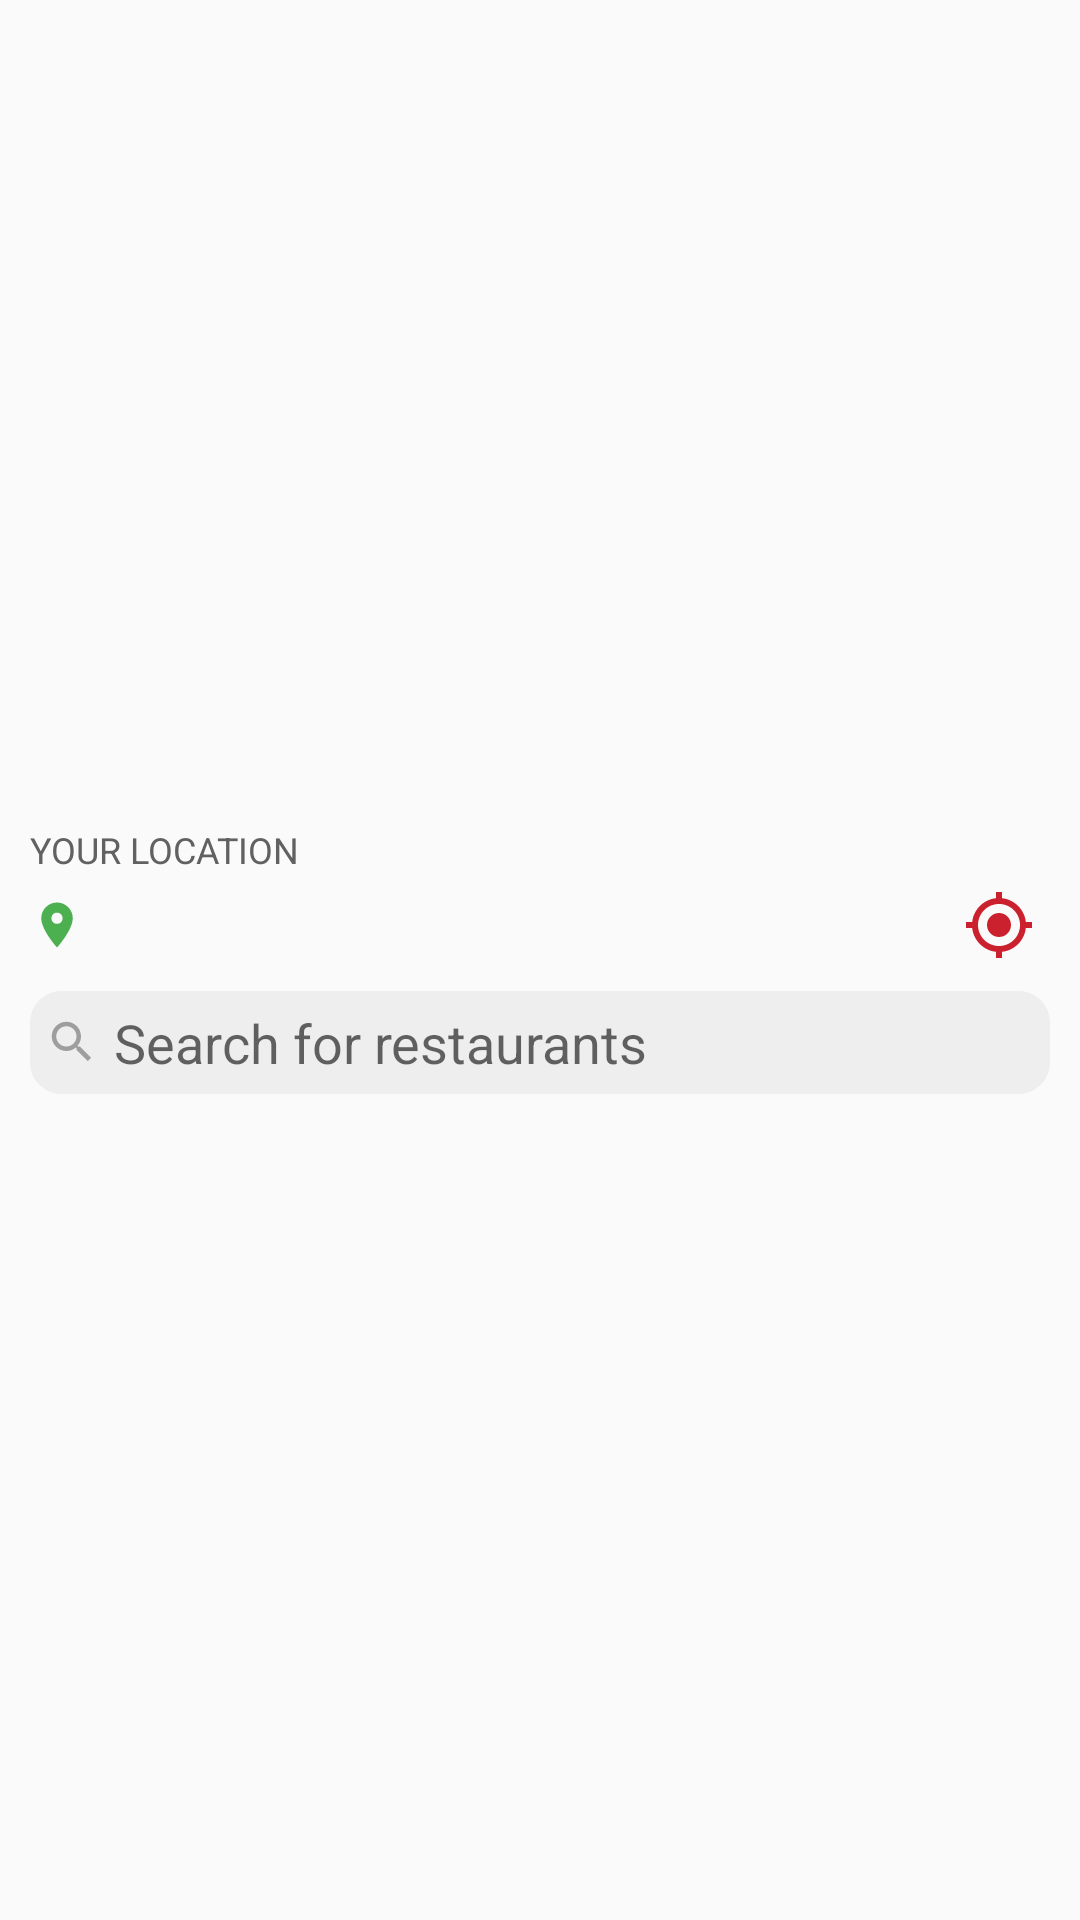

Icon click points for this 1080w x 1920h phone screenshot, format (x=x, y=y):
location on: (x=57, y=924)
